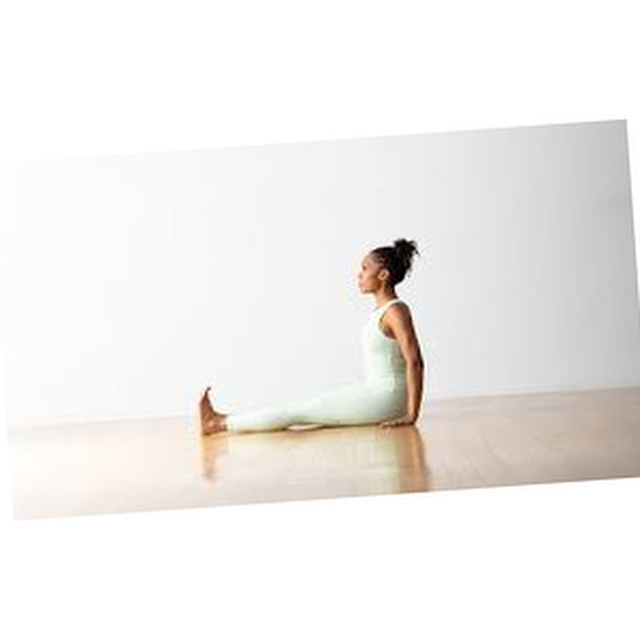Staff_Pose: (198, 237, 426, 440)
